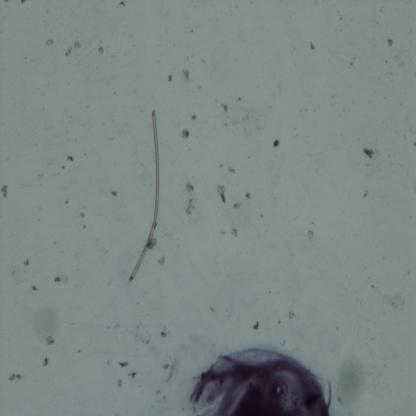Background material: (360, 146, 376, 160), (217, 184, 228, 204), (186, 196, 197, 216), (0, 182, 10, 199), (218, 100, 230, 114), (243, 189, 253, 204), (181, 68, 191, 83), (127, 371, 139, 383), (117, 360, 131, 370), (115, 376, 124, 391), (185, 181, 196, 193), (44, 334, 55, 346), (305, 229, 315, 242), (148, 238, 158, 251), (9, 373, 23, 382), (227, 164, 238, 175), (252, 320, 262, 332), (232, 200, 242, 212), (157, 256, 167, 268), (74, 39, 84, 50), (230, 228, 239, 240), (387, 38, 396, 50), (181, 128, 190, 140), (65, 44, 72, 59), (272, 137, 280, 150), (361, 189, 370, 200), (309, 38, 316, 52), (31, 283, 39, 295), (162, 362, 171, 372), (159, 331, 169, 340), (190, 112, 199, 122), (287, 310, 296, 320), (97, 45, 105, 56), (42, 356, 49, 368), (66, 155, 76, 163), (54, 276, 62, 285), (111, 192, 120, 200), (167, 74, 174, 83), (46, 38, 53, 47), (24, 260, 30, 266)
Hair: (128, 108, 162, 285)
Pen: (191, 344, 335, 415)
